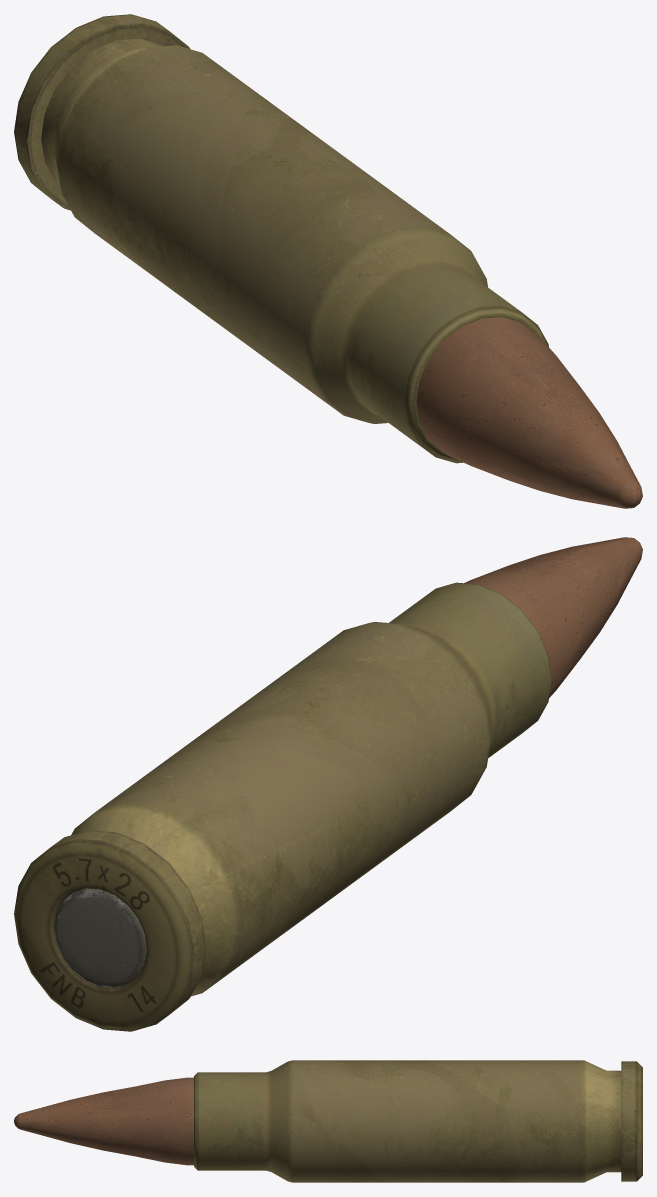
Rendered from Ammo_57x28mm_FMJ (merge).fbx.
3 views of the same model, one above another, from view 1: azimuth 30°, elevation 25°; view 2: azimuth 150°, elevation 25°; view 3: azimuth 270°, elevation 25° (orthographic). The views are drawn at different scales.
Parts seen in each view (by area): view 1: cal_57x28mm_FMJ; view 2: cal_57x28mm_FMJ, cal_57x28mm_shell (3); view 3: cal_57x28mm_FMJ.
Boxes of the visible parts, <box> form: cal_57x28mm_FMJ: <box>14,14,642,508</box>; cal_57x28mm_FMJ: <box>14,537,642,1031</box>; cal_57x28mm_shell (3): <box>54,888,146,987</box>; cal_57x28mm_FMJ: <box>14,1060,642,1182</box>.
Bounding box in the file's own units: 0.00795 × 0.00795 × 0.0405.
